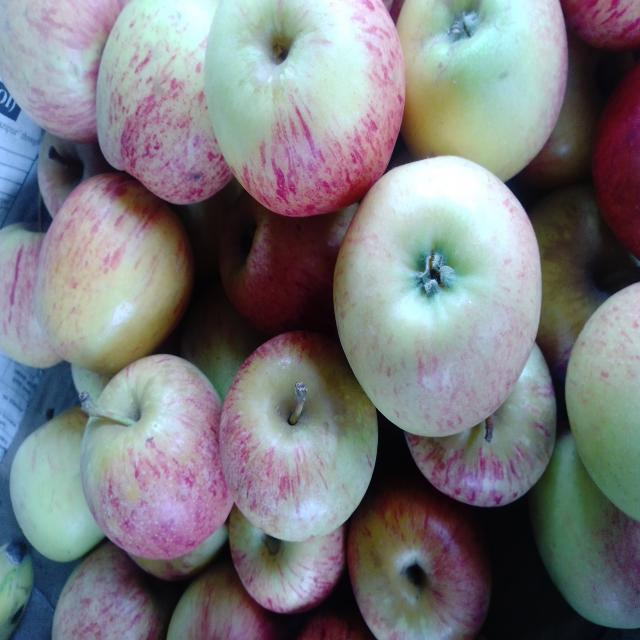Fresh Apple: (338, 162, 555, 433), (194, 0, 401, 201), (220, 328, 373, 534), (83, 362, 230, 558), (92, 13, 223, 207), (32, 192, 185, 356)
